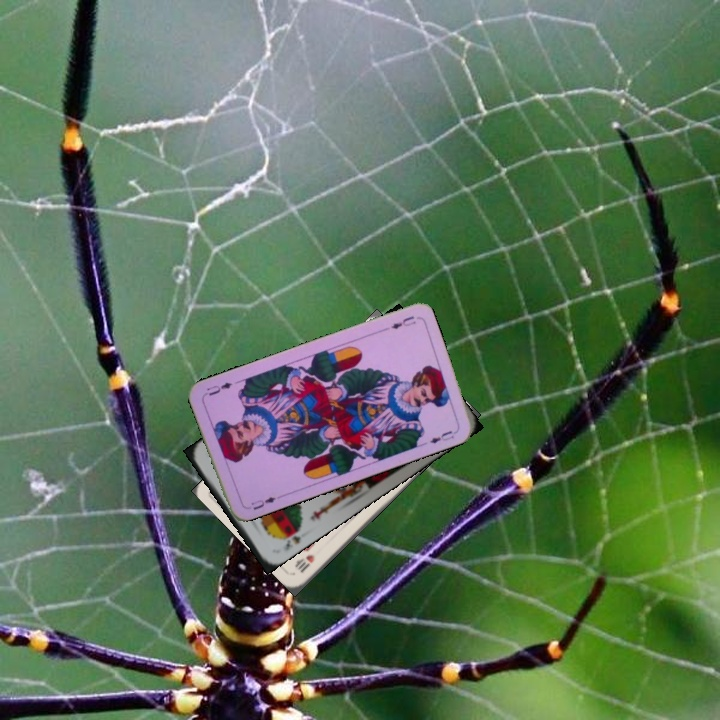EU: (247, 492, 278, 512), (387, 312, 418, 332)
H10: (292, 550, 317, 576)
SK: (275, 523, 303, 553)
